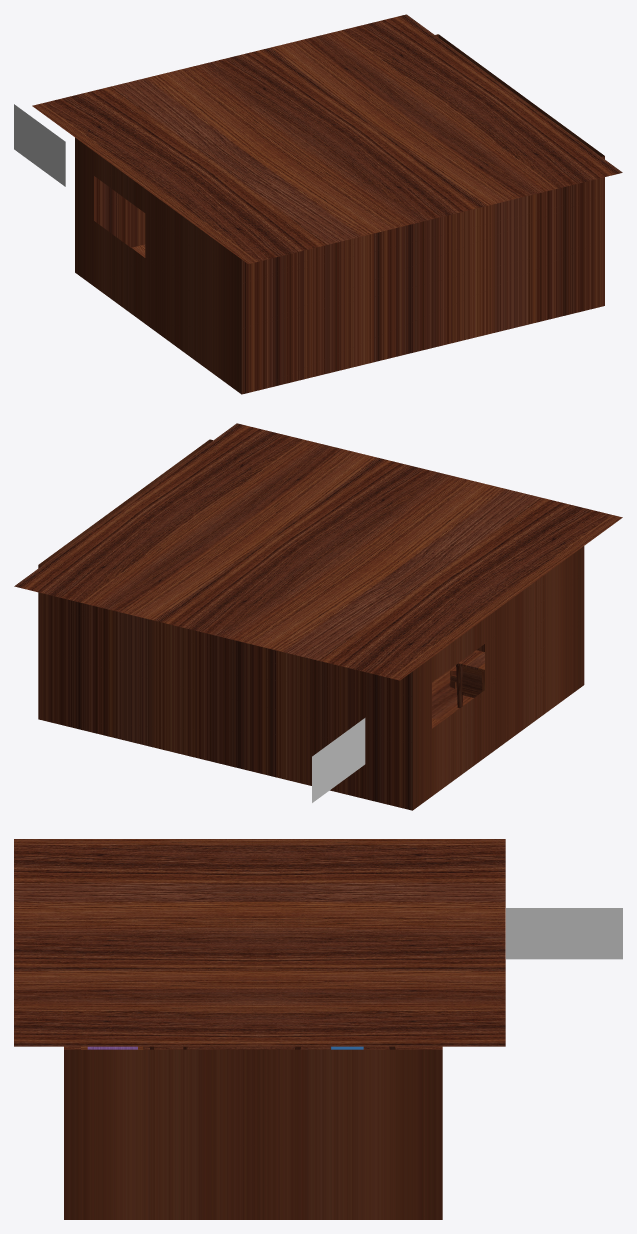
3 views of the same model, one above another, from view 1: azimuth 30°, elevation 25°; view 2: azimuth 150°, elevation 25°; view 3: azimuth 270°, elevation 25° (orthographic). The views are drawn at different scales.
Parts seen in each view (by area): view 1: Plane, trannha, kinhcuaso; view 2: Plane, trannha, kinhcuaso, small chest_primitive0; view 3: Plane, trannha, kinhcuaso.
Part boxes in pixels (x1,y1,x2,y2): Plane: (32,14,622,263); trannha: (75,34,604,394); kinhcuaso: (14,104,65,186); Plane: (14,423,622,680); trannha: (38,439,584,810); kinhcuaso: (312,718,365,802); small chest_primitive0: (456,650,484,707); Plane: (14,839,505,1046); trannha: (64,1046,442,1219); kinhcuaso: (506,908,622,959).
Bounding box in the file's own units: 158 × 61.63 × 194.
10 materials, 5 textured.
